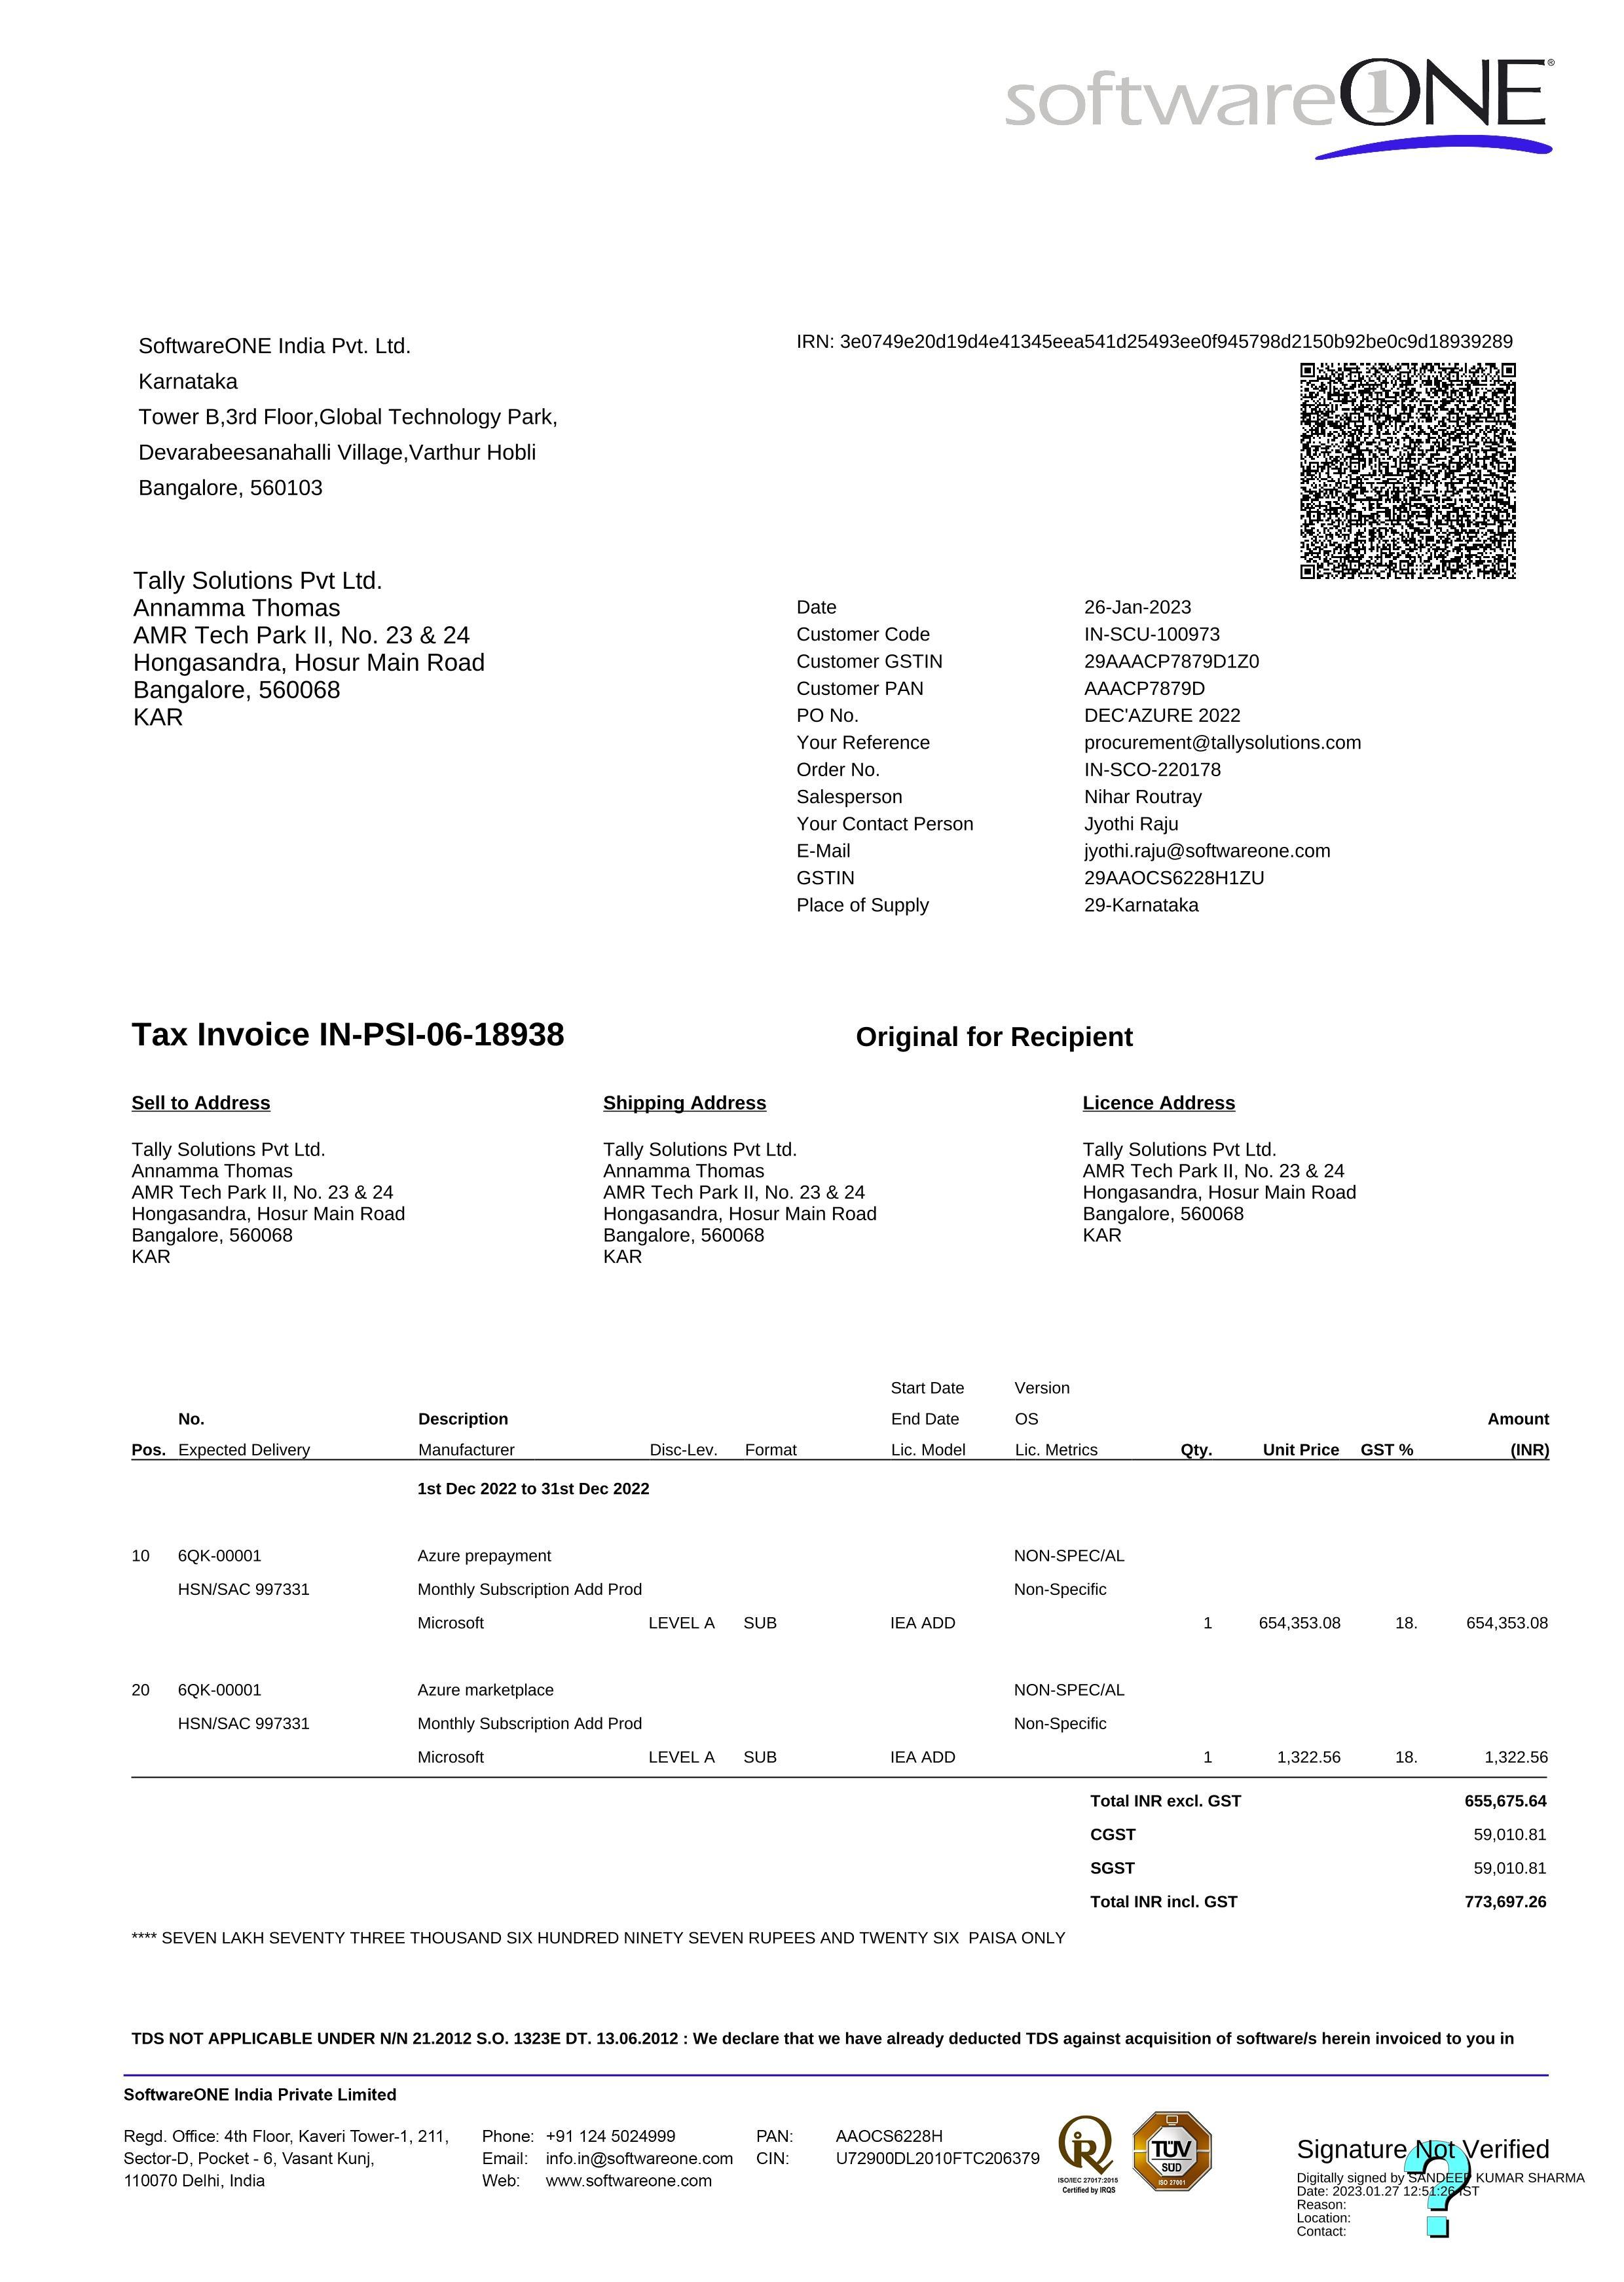InvoiceDate: (1081, 592, 1202, 621)
InvoiceNumber: (316, 1013, 569, 1053)
TotalAmount: (1461, 1886, 1557, 1920)
